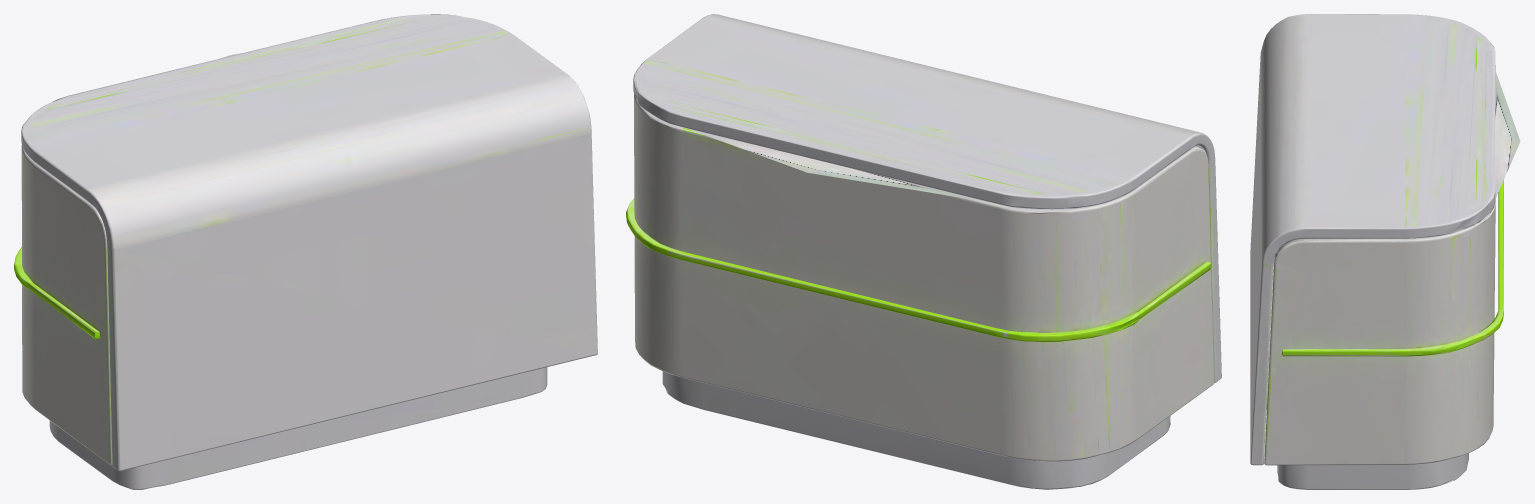
The model's file is reception.glb.
3 views of the same model, side by side, from view 1: azimuth 30°, elevation 25°; view 2: azimuth 150°, elevation 25°; view 3: azimuth 270°, elevation 25° (orthographic). The views are drawn at different scales.
Bounding box in the file's own units: 0.9512 × 0.5517 × 0.4932.
1 material, 1 textured.
